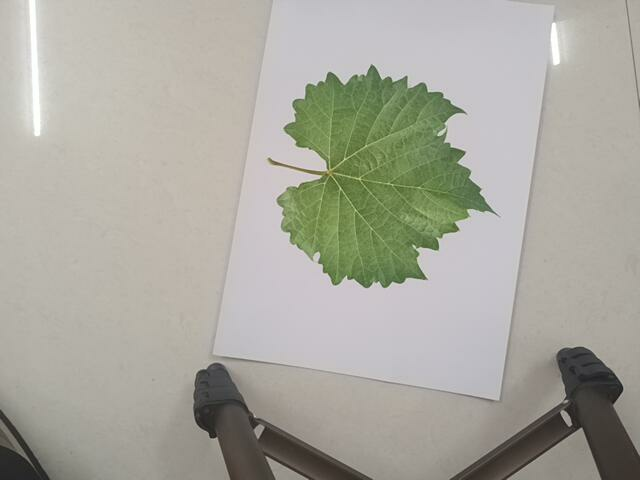Grape_Healthy: (269, 68, 500, 287)
